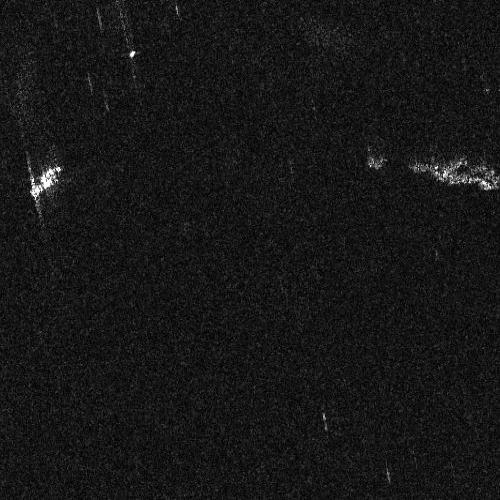ship: (28, 165, 63, 200), (129, 50, 137, 60)
